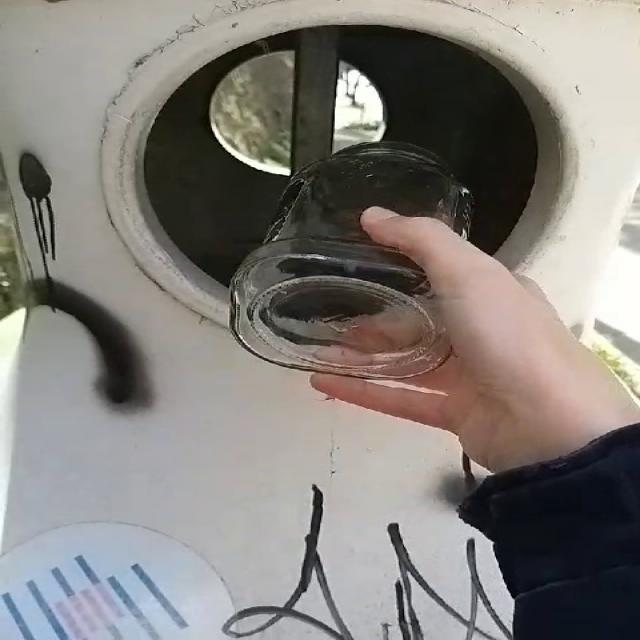glass: (231, 141, 473, 379)
